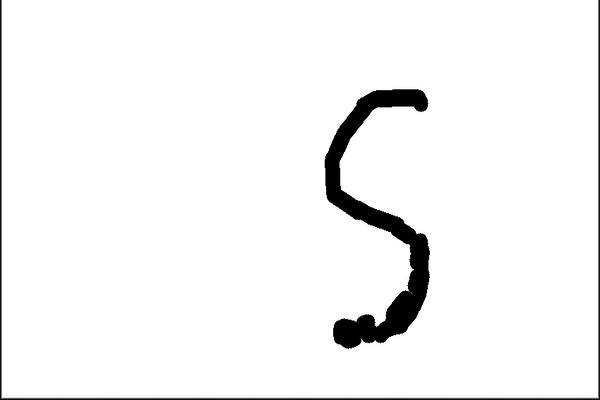S: (315, 82, 439, 351)
